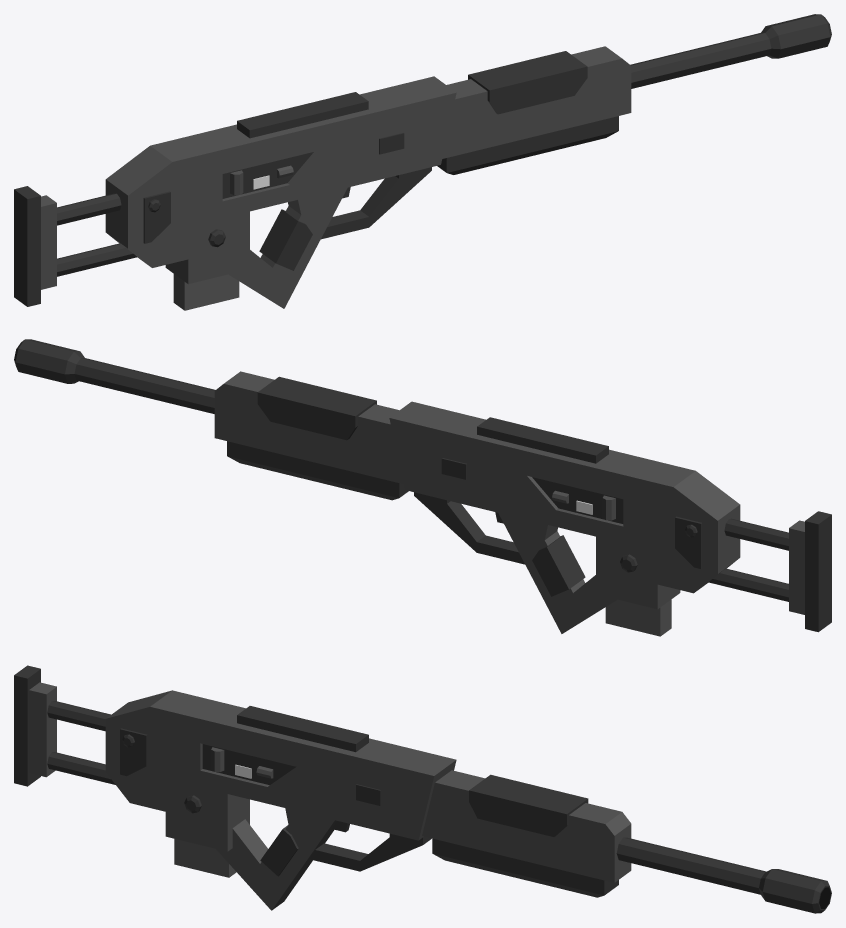
Rendered from Rifle_Sniper_C_V1.FBX.
3 renders of one model, top to bottom at view 1: azimuth 30°, elevation 25°; view 2: azimuth 150°, elevation 25°; view 3: azimuth 330°, elevation 25°, orthographic.
Parts seen in each view (by area): view 1: Rifle_Sniper_C_V1, Magazine; view 2: Rifle_Sniper_C_V1, Magazine; view 3: Rifle_Sniper_C_V1, Magazine.
Boxes of the visible parts, x1,y1,x2,y2 form: Rifle_Sniper_C_V1: (14, 14, 831, 308); Magazine: (173, 274, 239, 310); Rifle_Sniper_C_V1: (14, 339, 831, 633); Magazine: (605, 599, 671, 636); Rifle_Sniper_C_V1: (14, 665, 831, 913); Magazine: (174, 839, 236, 877).
Size of the model in its own units: 414 by 92.07 by 25.59.
